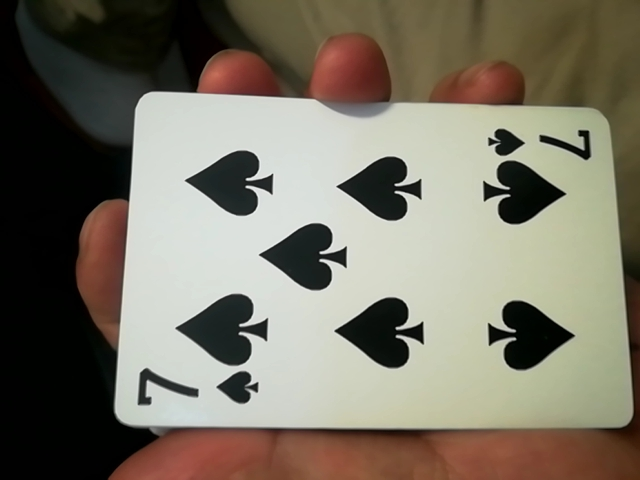ht 7: (98, 93, 624, 446)
